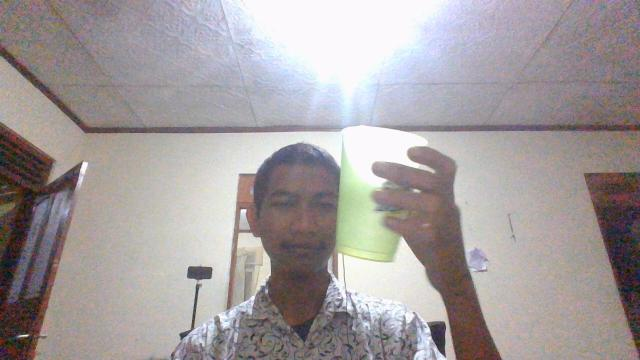botol-hijau: (328, 125, 438, 266)
